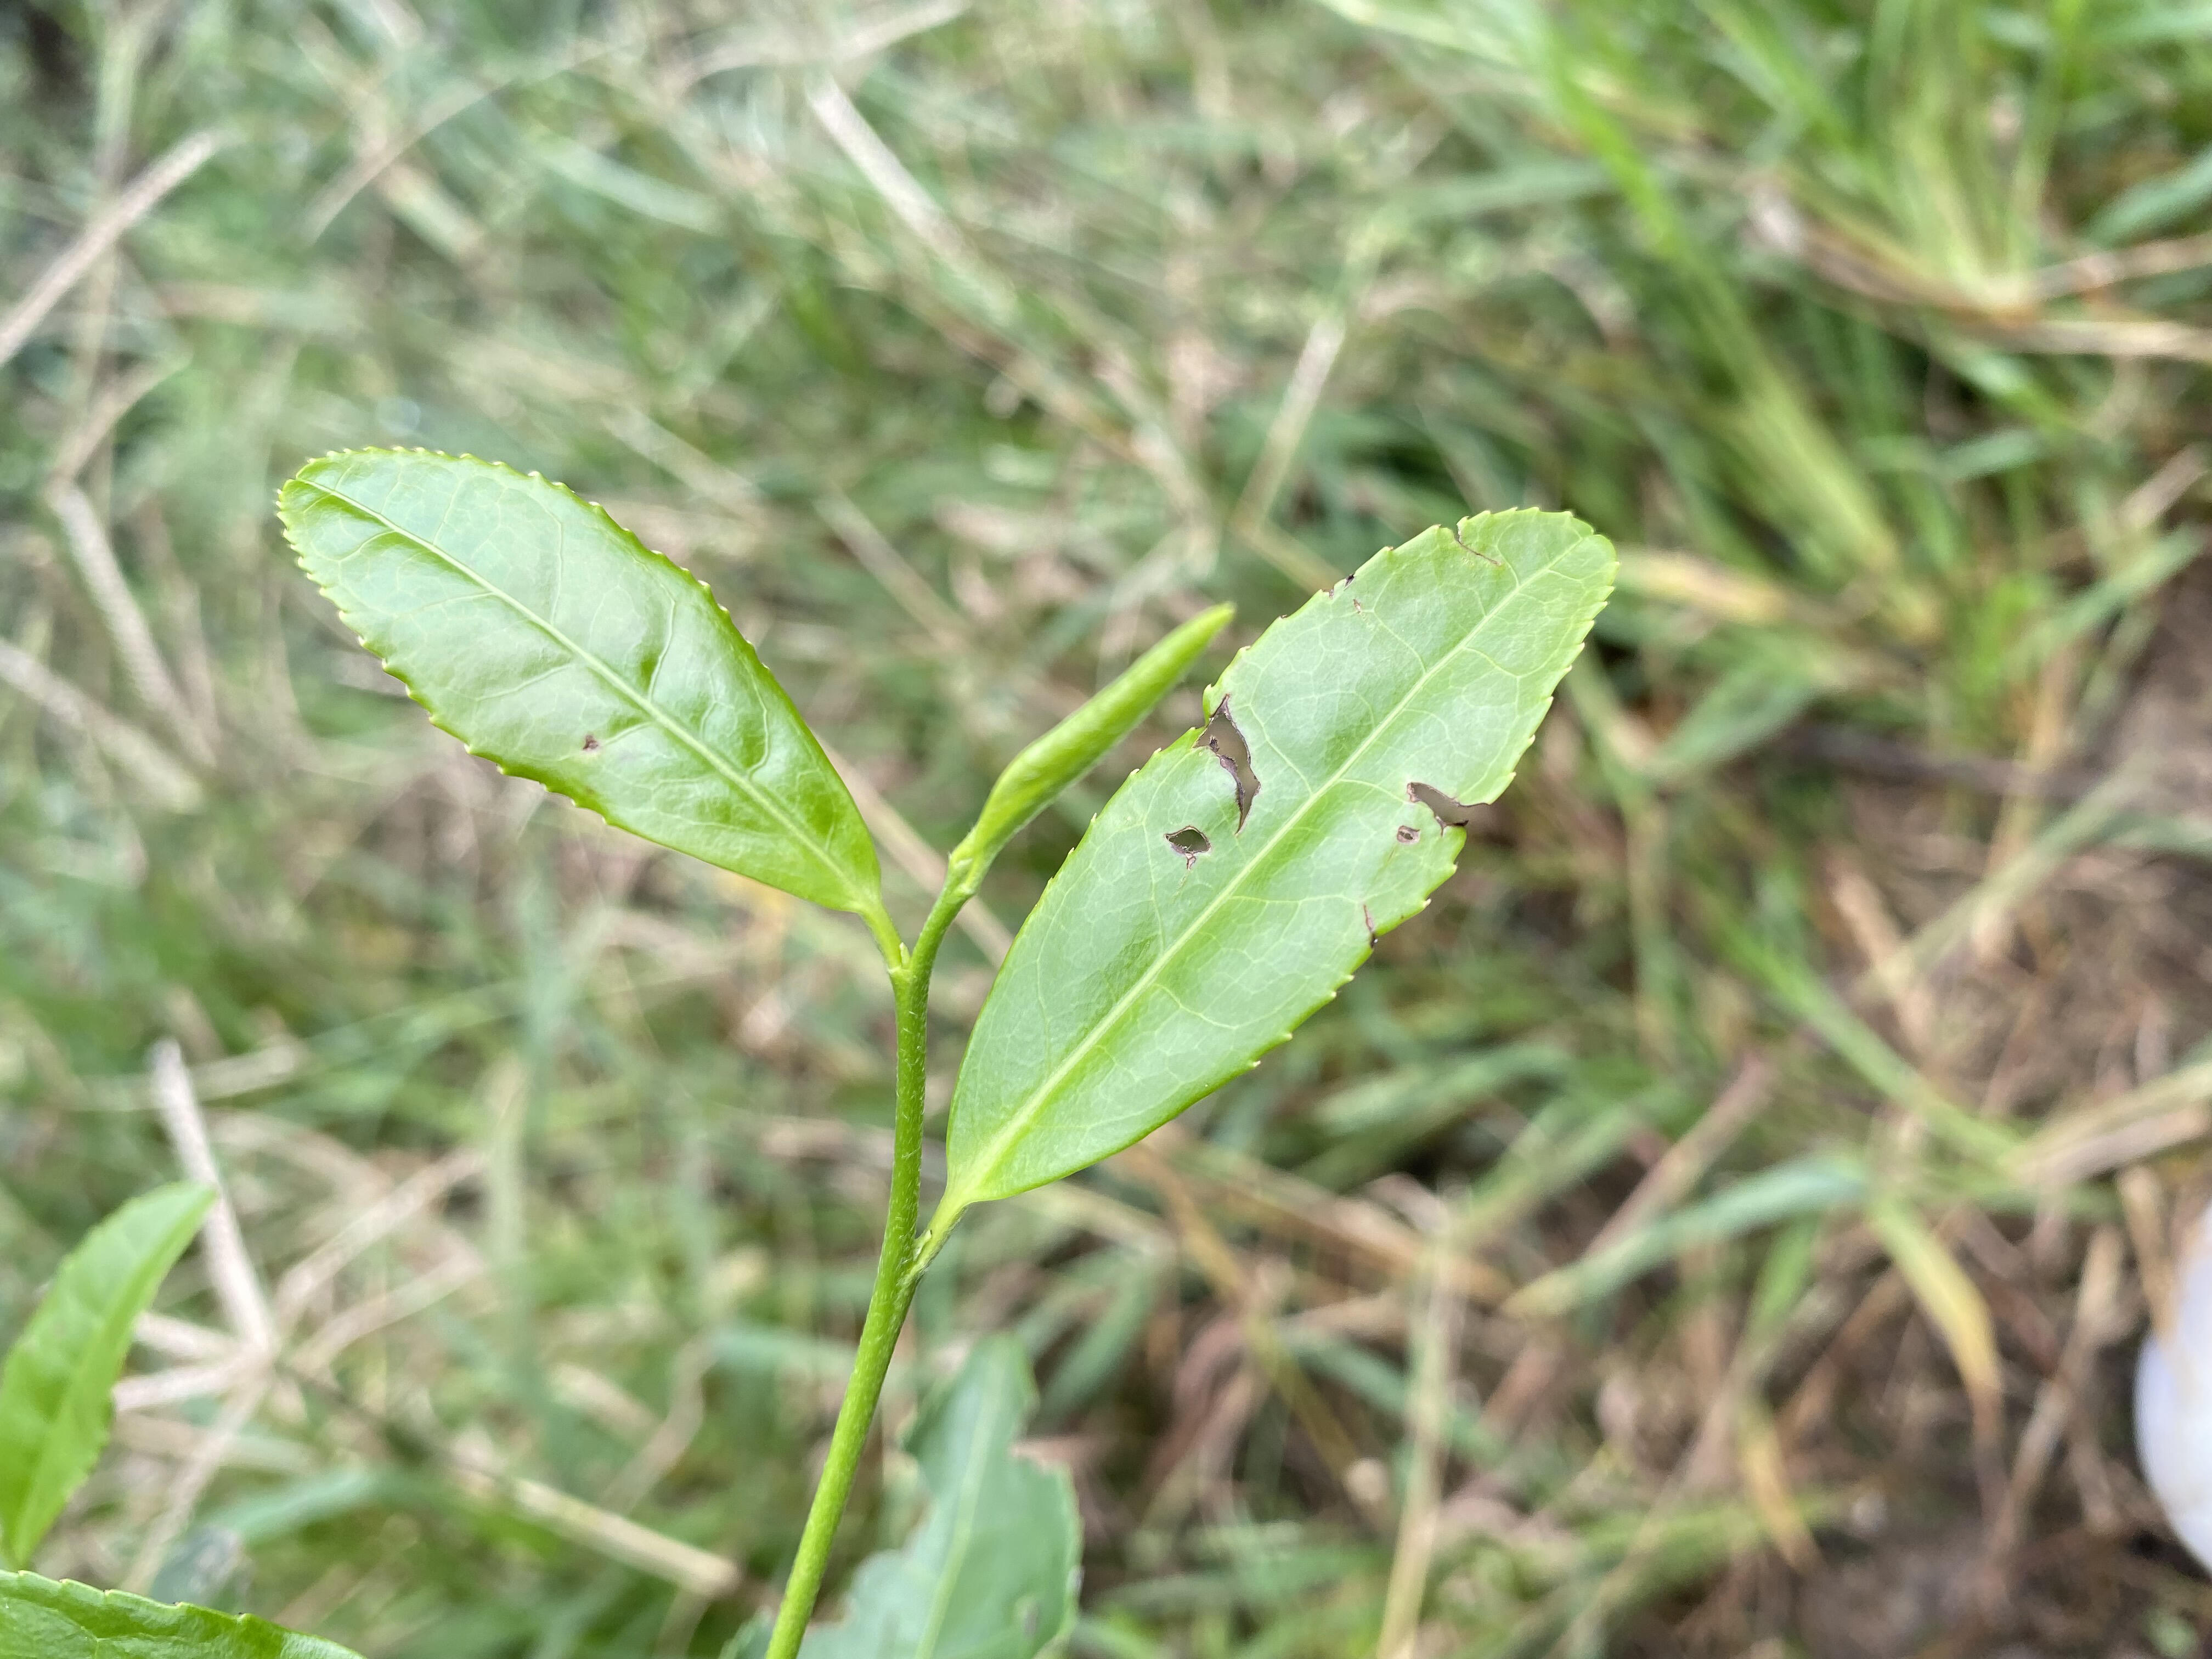chihuo_high: (944, 504, 1618, 1209)
tanju_low: (273, 450, 883, 911)
